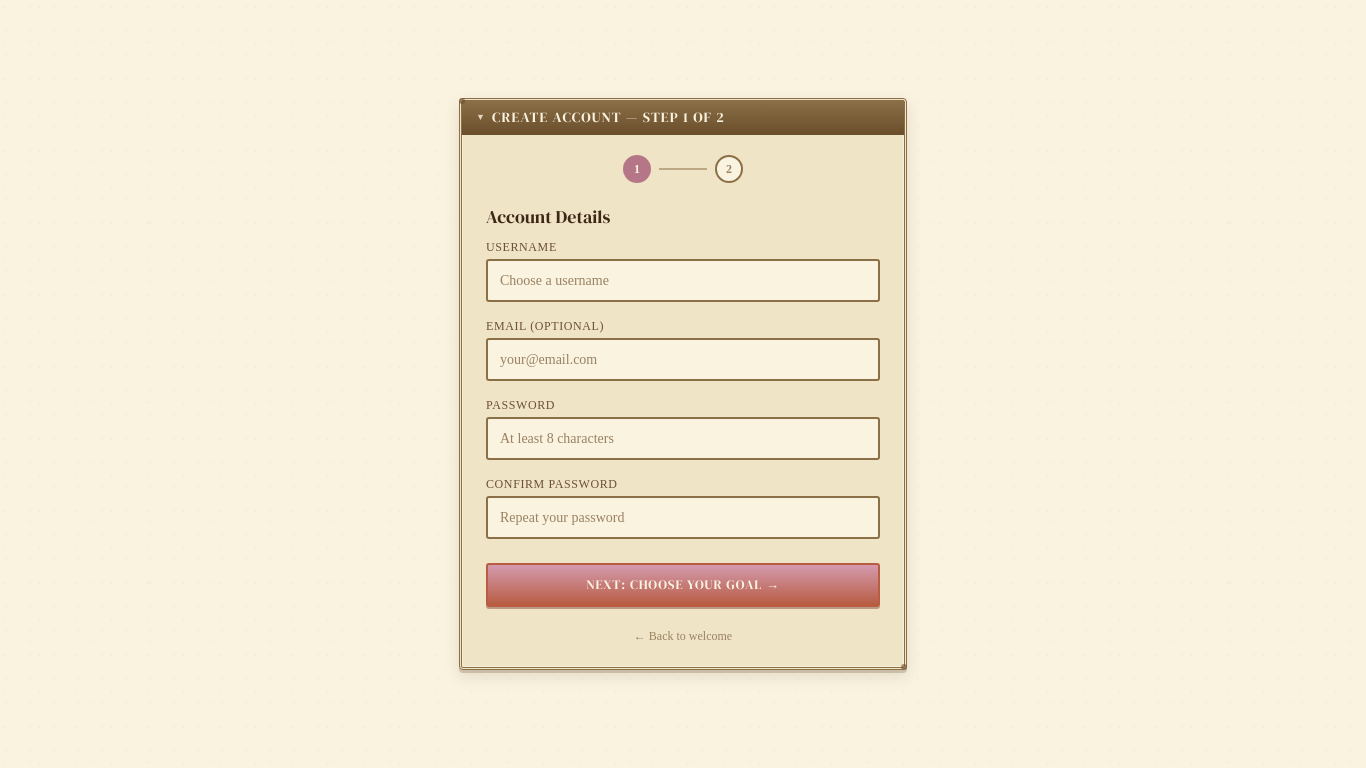
Test: RegisterPage — account details › moves on to choosing a goal once the details are valid
Type "elena" into the field with placeholder "Choose a username". click: (683, 281)
box: [486,259,880,302]
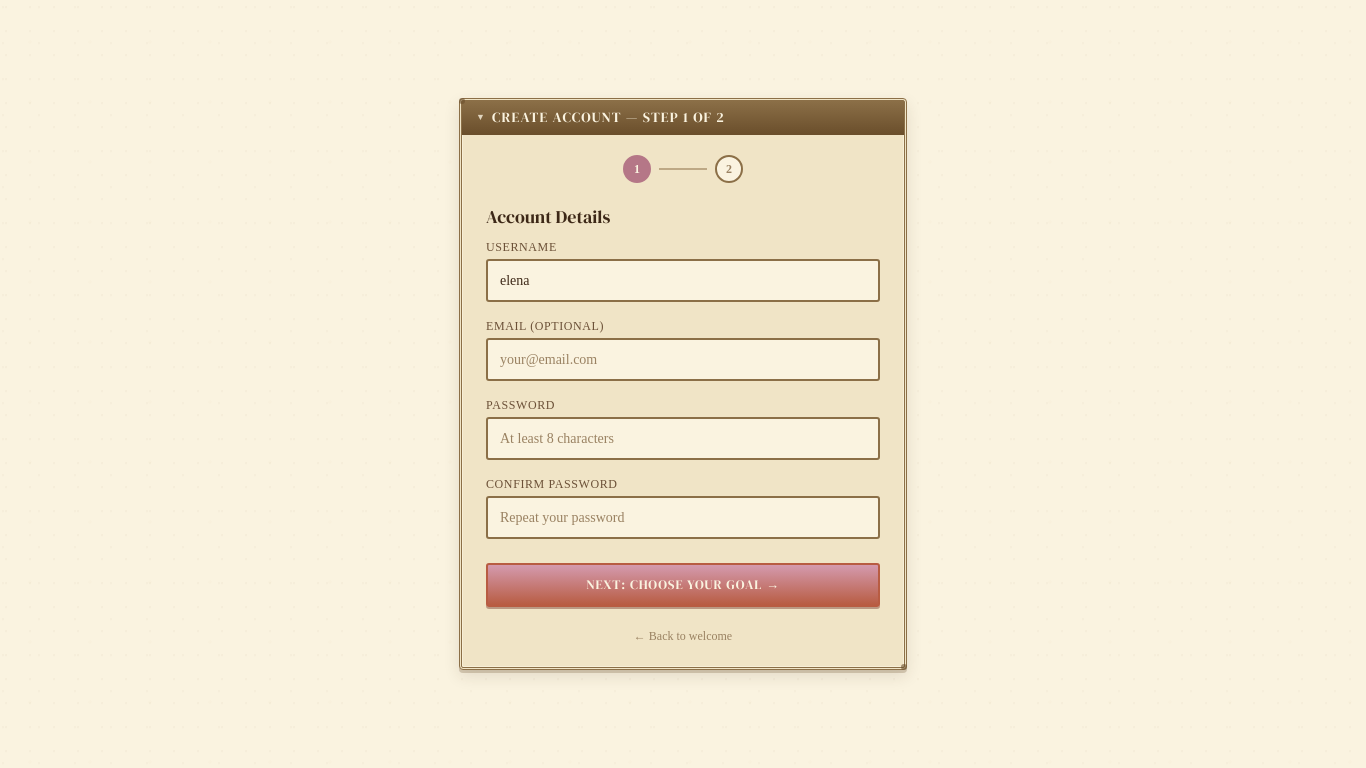
Type "longenough" into the password field with placeholder "At least 8 characters". click: (683, 439)
box: [486,417,880,460]
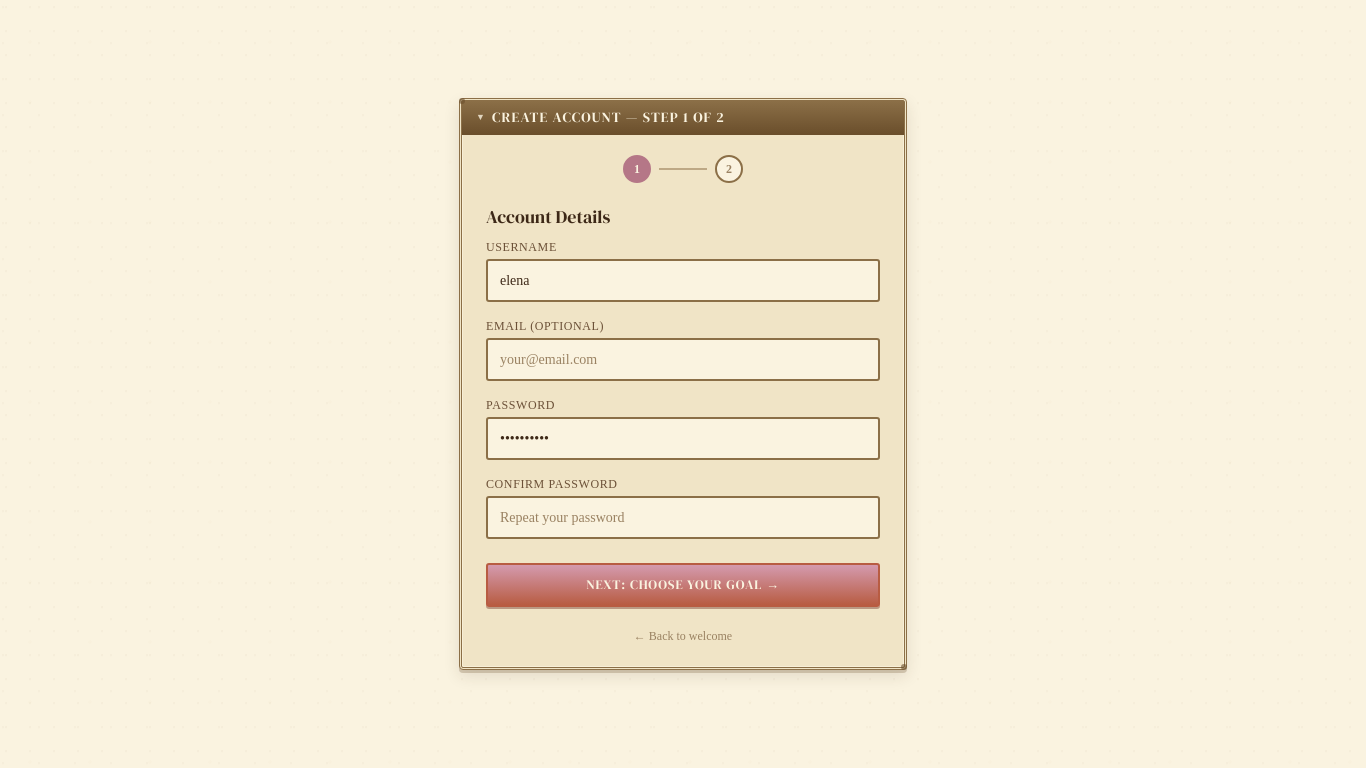
Type "longenough" into the password field with placeholder "Repeat your password". click: (683, 518)
box: [486,496,880,539]
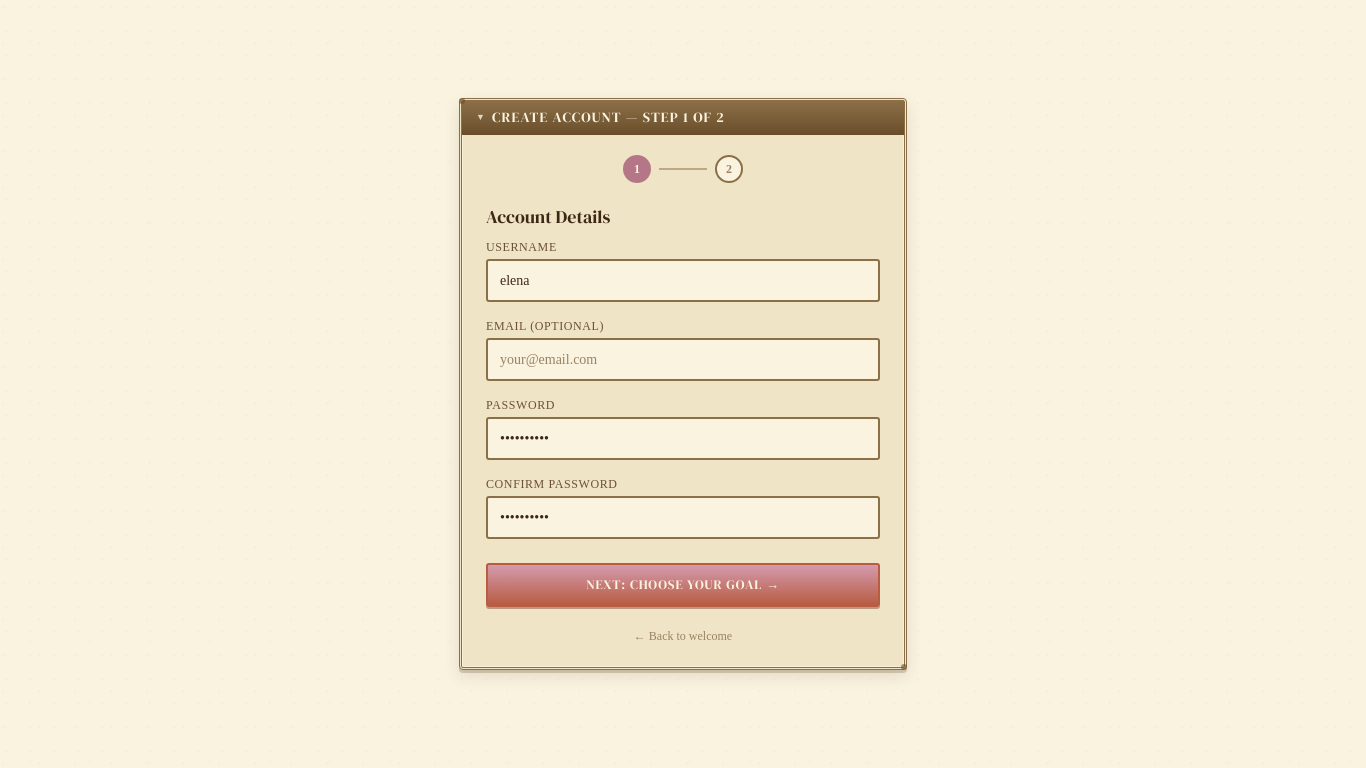
Click the button "Next: Choose Your Goal →". click: (683, 585)
box: [486,563,880,607]
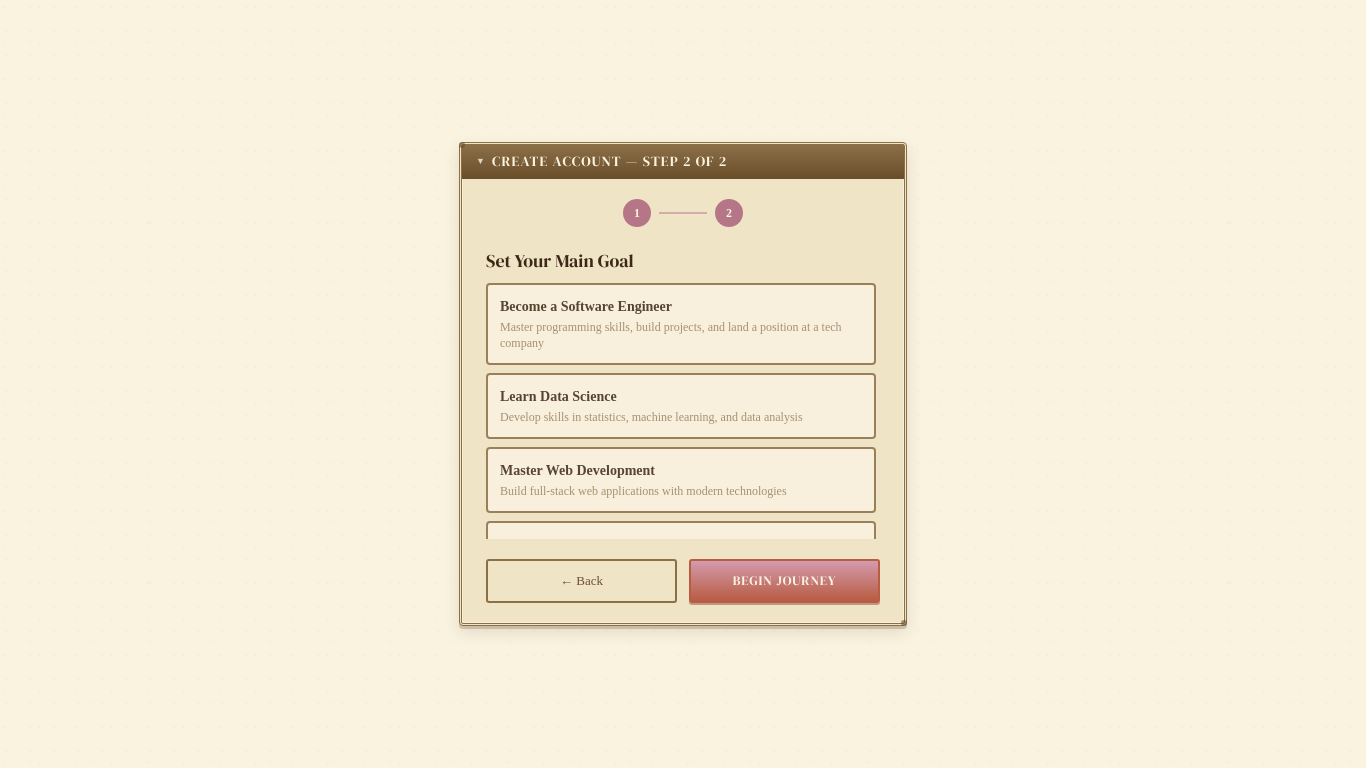
Check: the text "Create Account — Step 2 of 2" is shown, box [462,145,904,179]
Check: the heading "Set Your Main Goal" is shown, box [486,248,634,273]
